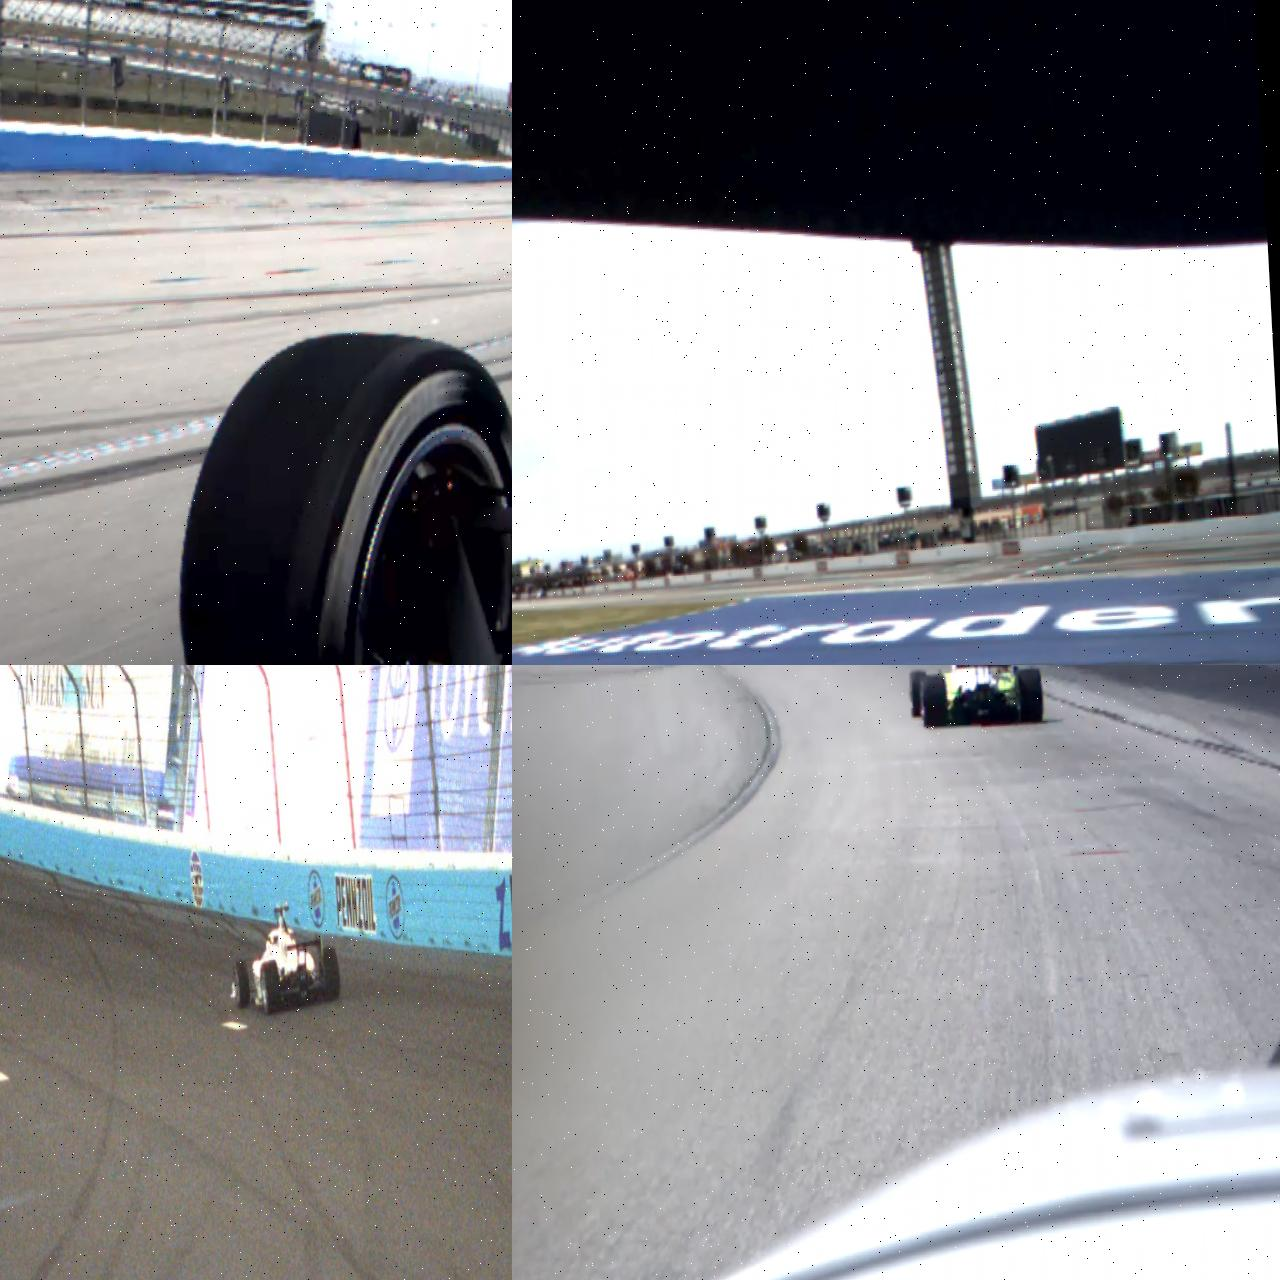AV: (225, 899, 341, 1017), (905, 665, 1046, 730)
Wheel: (163, 324, 512, 665), (1015, 668, 1044, 723), (920, 674, 948, 728), (259, 959, 281, 1014), (318, 947, 340, 1001), (231, 959, 250, 1008), (908, 670, 927, 719)
